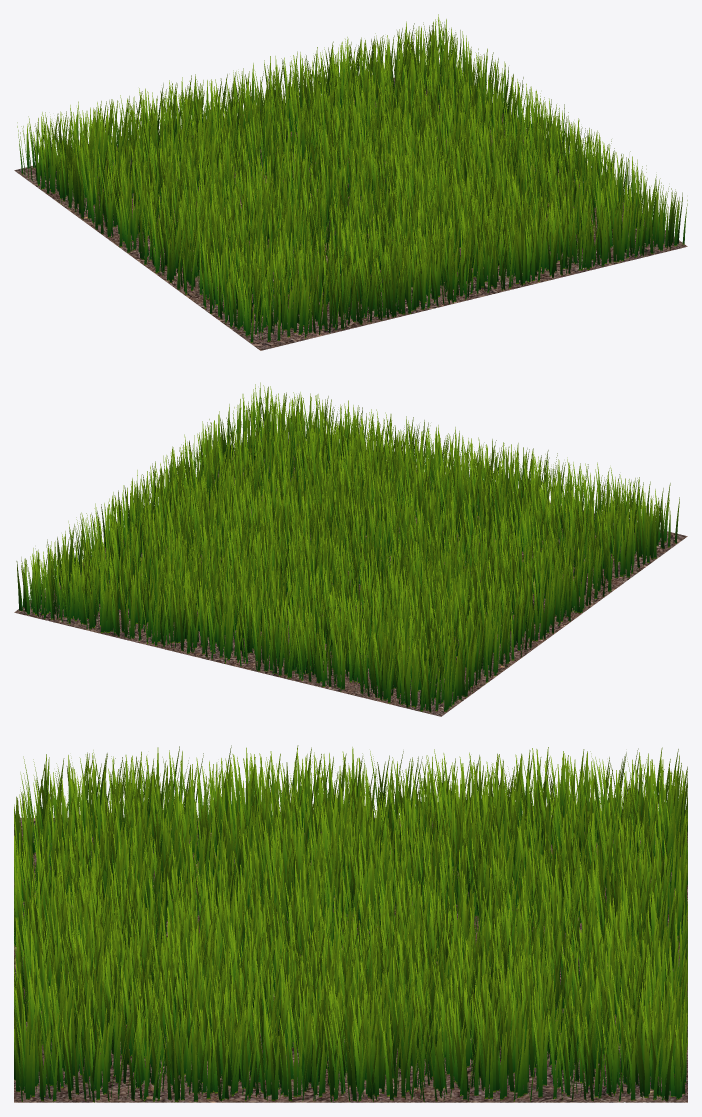
File: lawn.glb
3 renders of one model, top to bottom at view 1: azimuth 30°, elevation 25°; view 2: azimuth 150°, elevation 25°; view 3: azimuth 270°, elevation 25°, orthographic. The views are drawn at different scales.
Parts seen in each view (by area): view 1: lawn-grass, lawn-base; view 2: lawn-grass, lawn-base; view 3: lawn-grass, lawn-base.
Part boxes in pixels (left/top/right/bottom): lawn-grass: left=17, top=14, right=687, bottom=342; lawn-base: left=14, top=75, right=687, bottom=350; lawn-grass: left=16, top=382, right=679, bottom=712; lawn-base: left=14, top=434, right=687, bottom=716; lawn-grass: left=14, top=745, right=687, bottom=1102; lawn-base: left=14, top=818, right=687, bottom=1102.
Bounding box in the file's own units: 1 × 0.12 × 1.
2 materials, 2 textured.
